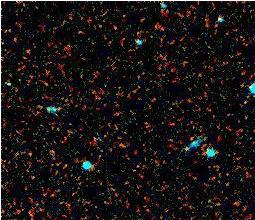star: (170, 136, 200, 166)
